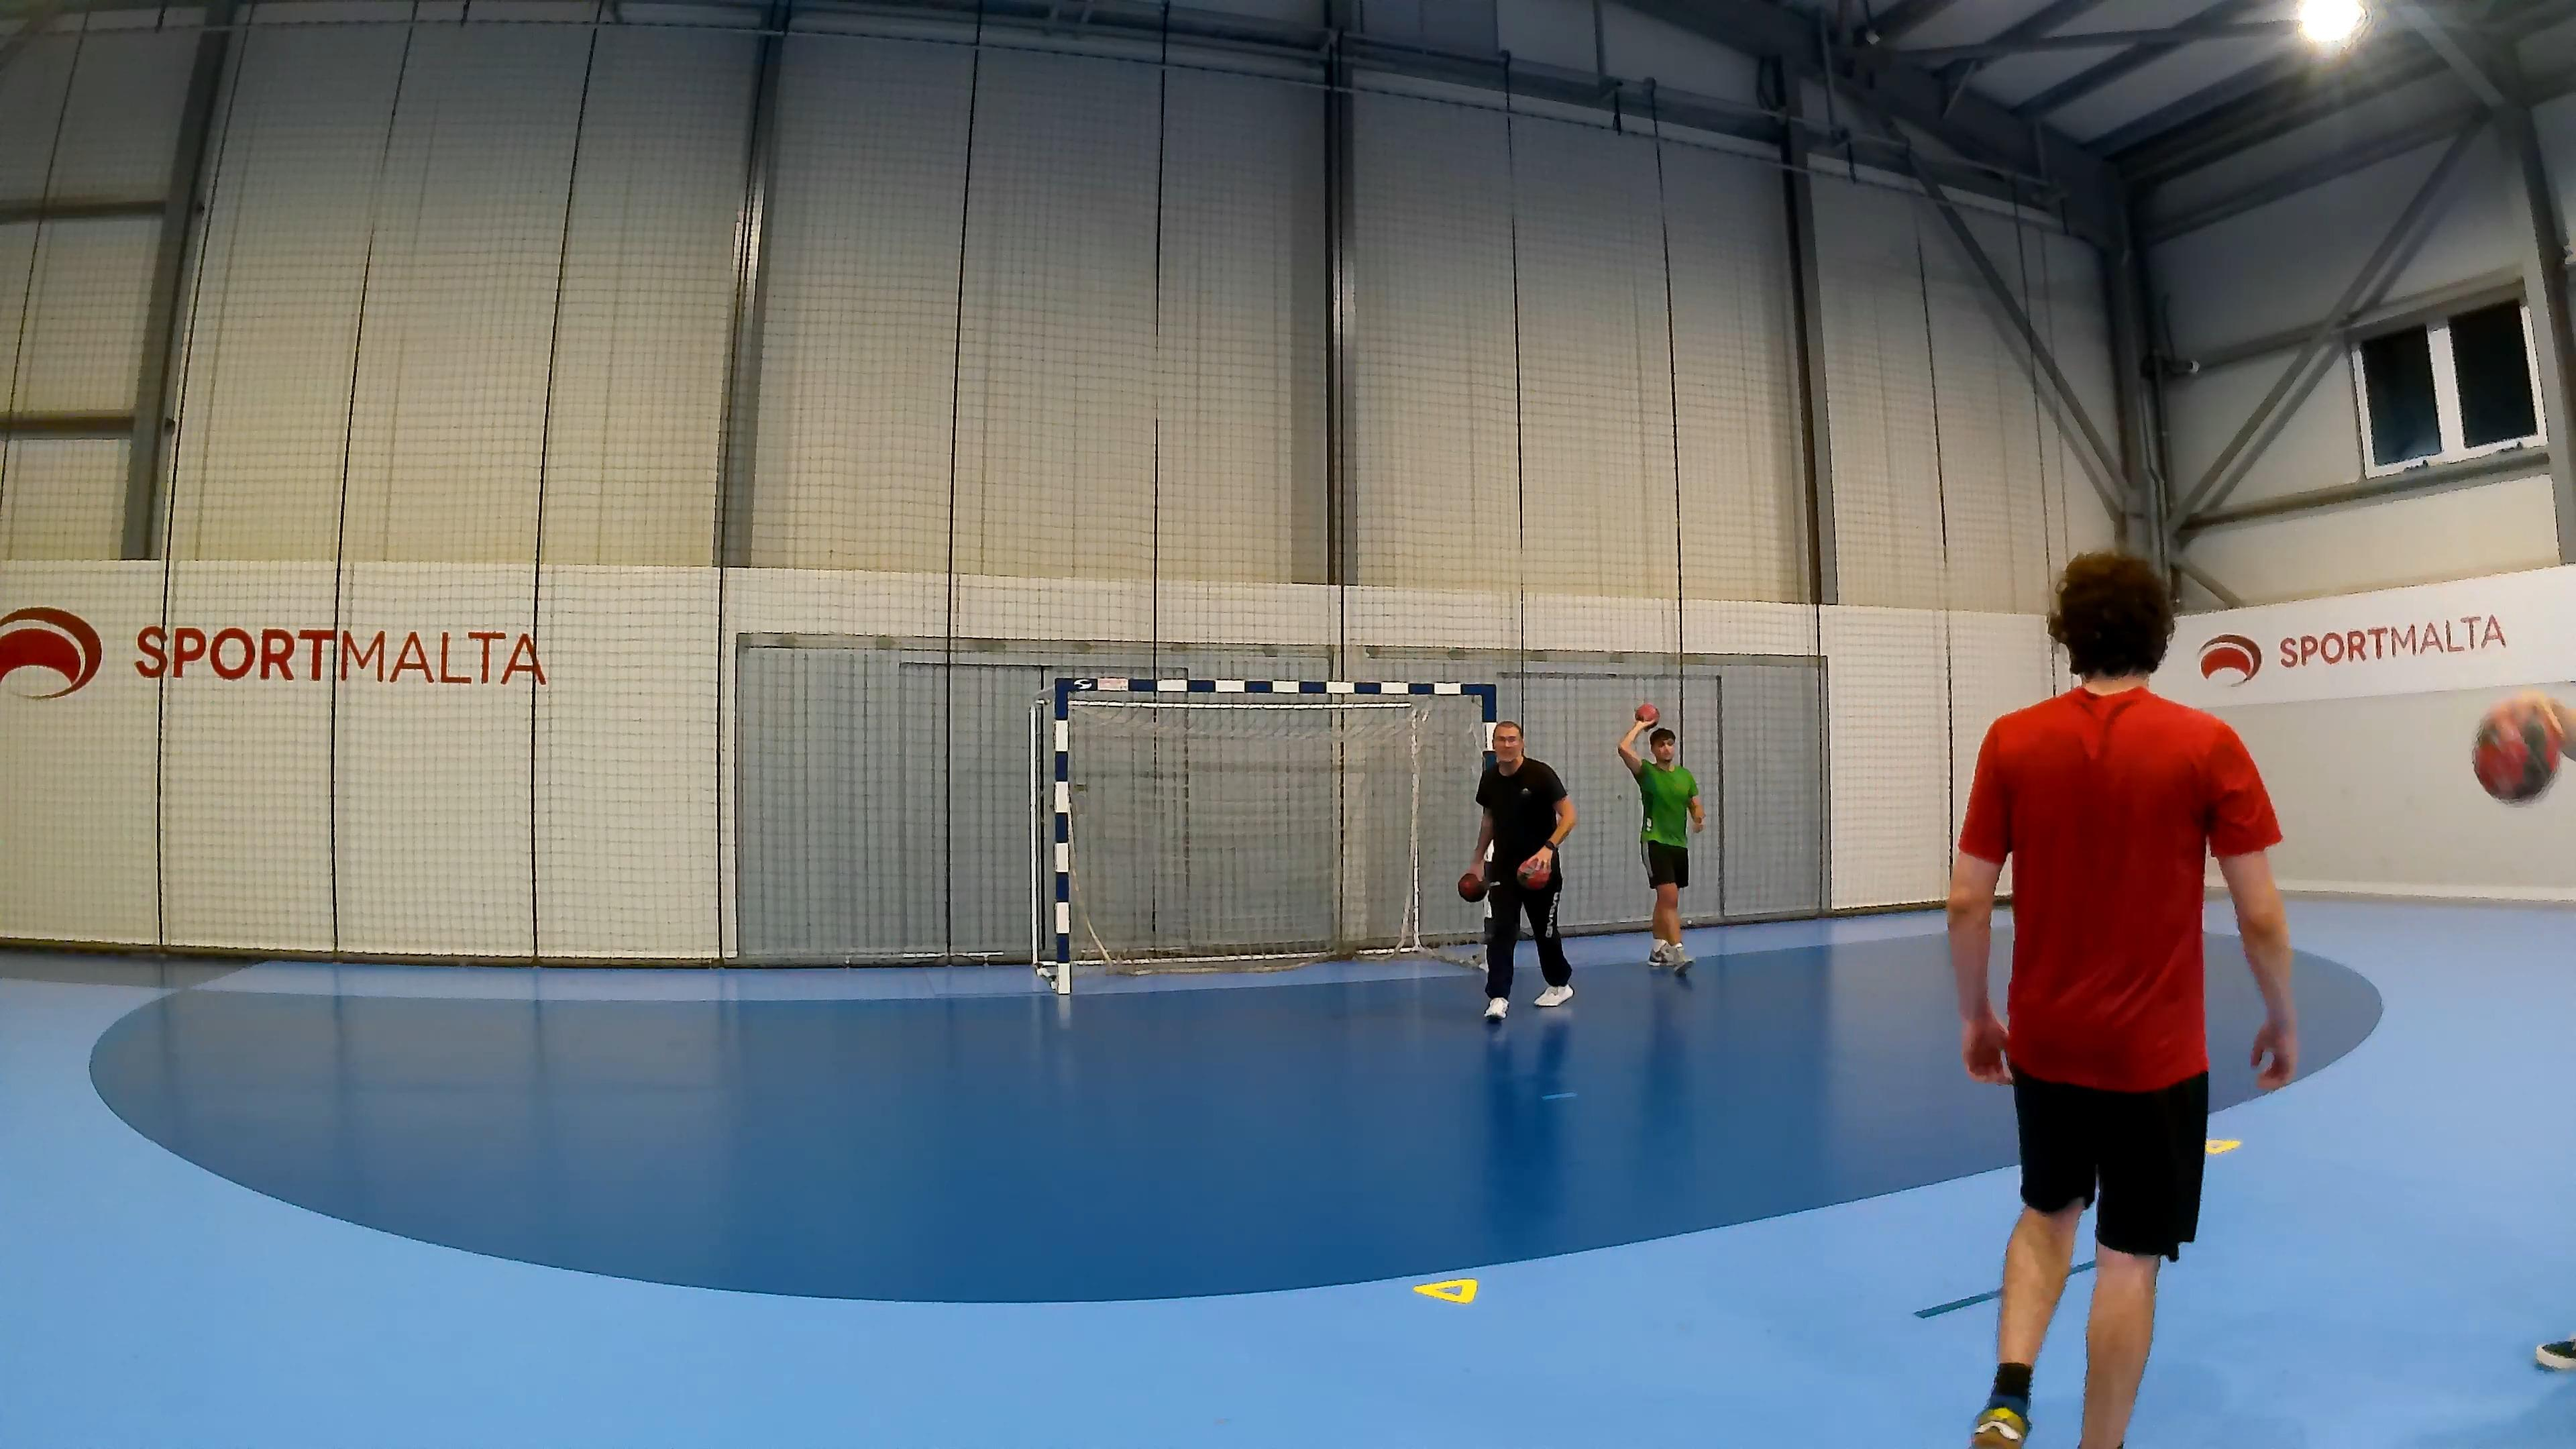handball: (2470, 690, 2569, 803), (1458, 870, 1486, 902), (1633, 697, 1660, 727)
